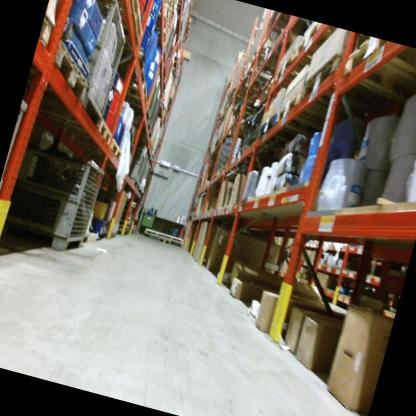pallet: (297, 49, 412, 141), (337, 33, 416, 107), (40, 27, 102, 106), (60, 0, 156, 49), (282, 16, 356, 79), (257, 110, 342, 160), (273, 87, 346, 142), (271, 53, 344, 101), (65, 110, 117, 145), (111, 46, 152, 88), (118, 68, 155, 112), (256, 29, 291, 71), (234, 68, 277, 101), (147, 7, 175, 48), (140, 223, 187, 245), (37, 9, 61, 47), (107, 130, 128, 162), (155, 0, 177, 24), (169, 47, 184, 73), (183, 16, 194, 39), (157, 236, 173, 247), (161, 0, 177, 11)
stillage: (0, 143, 108, 265), (75, 0, 139, 126), (0, 100, 34, 215), (139, 65, 164, 127), (120, 142, 149, 189), (144, 81, 163, 136), (145, 92, 164, 143), (137, 158, 152, 198), (136, 154, 149, 193)
